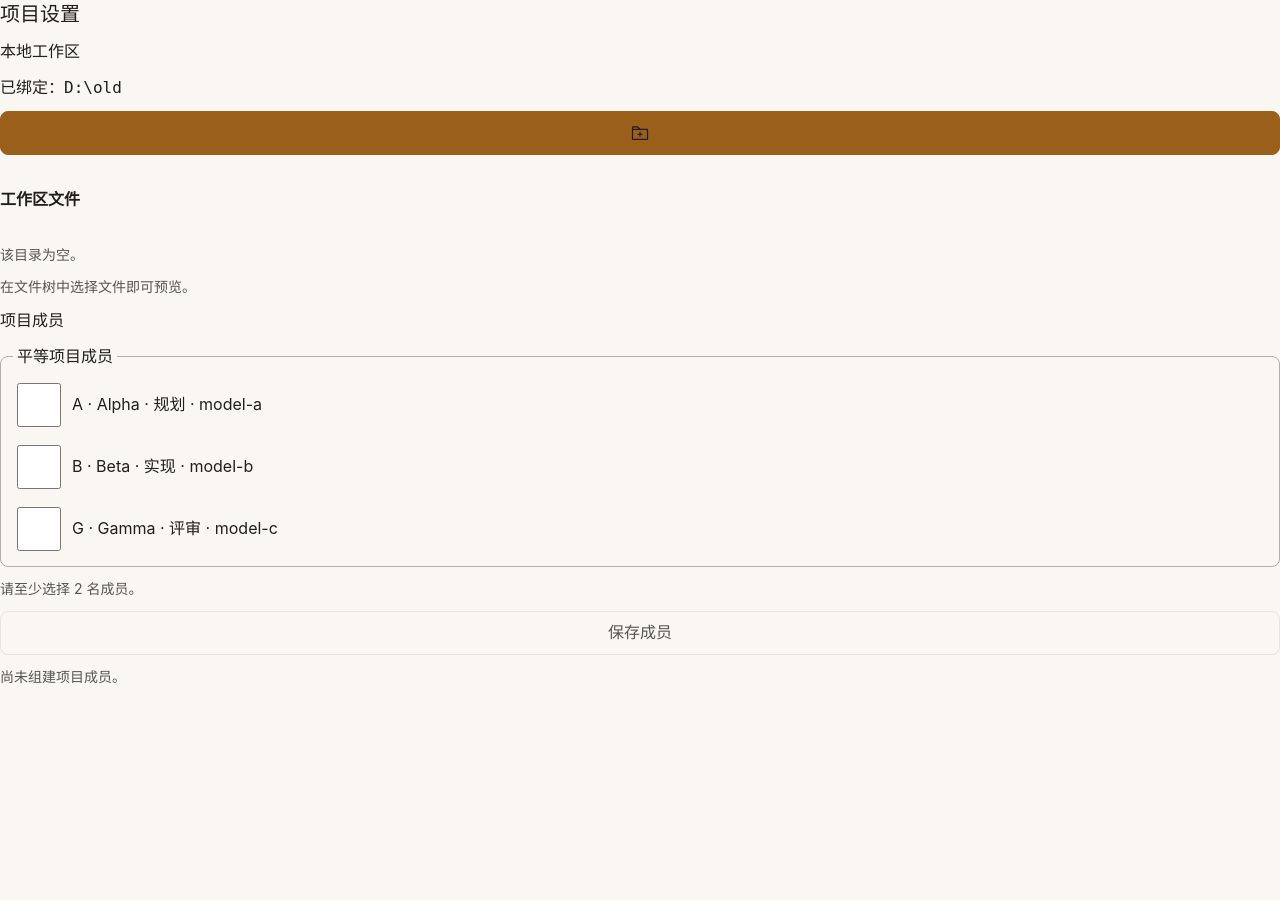
workspace and equal-member setup › binds, confirms rebind, announces success and focuses the path summary
Click the button named "保存工作区" at coordinates (640, 133), box [0, 111, 1279, 155]
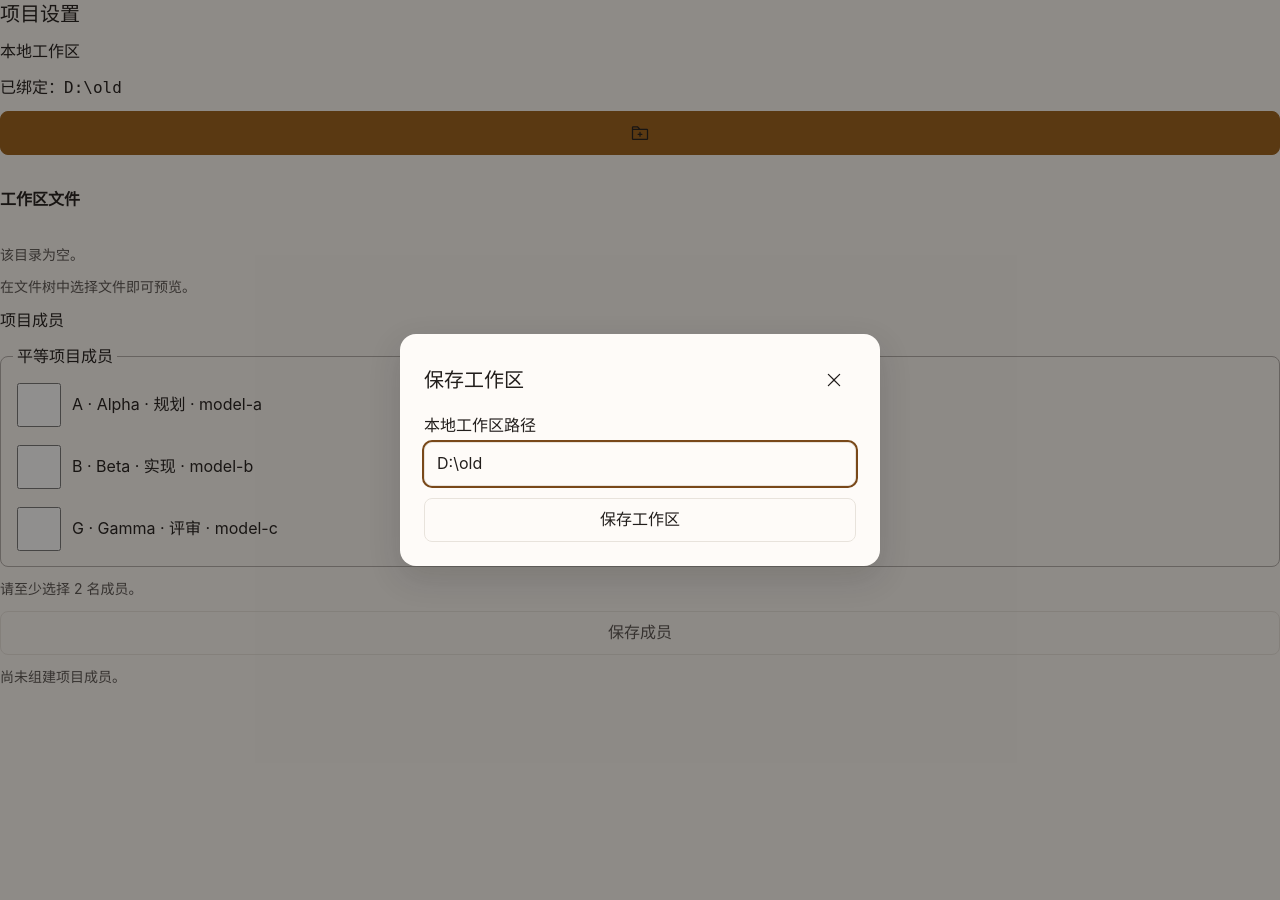
Replace the text in the field labelled "本地工作区路径" with "D:\\new" at coordinates (640, 464), box [424, 442, 856, 486]
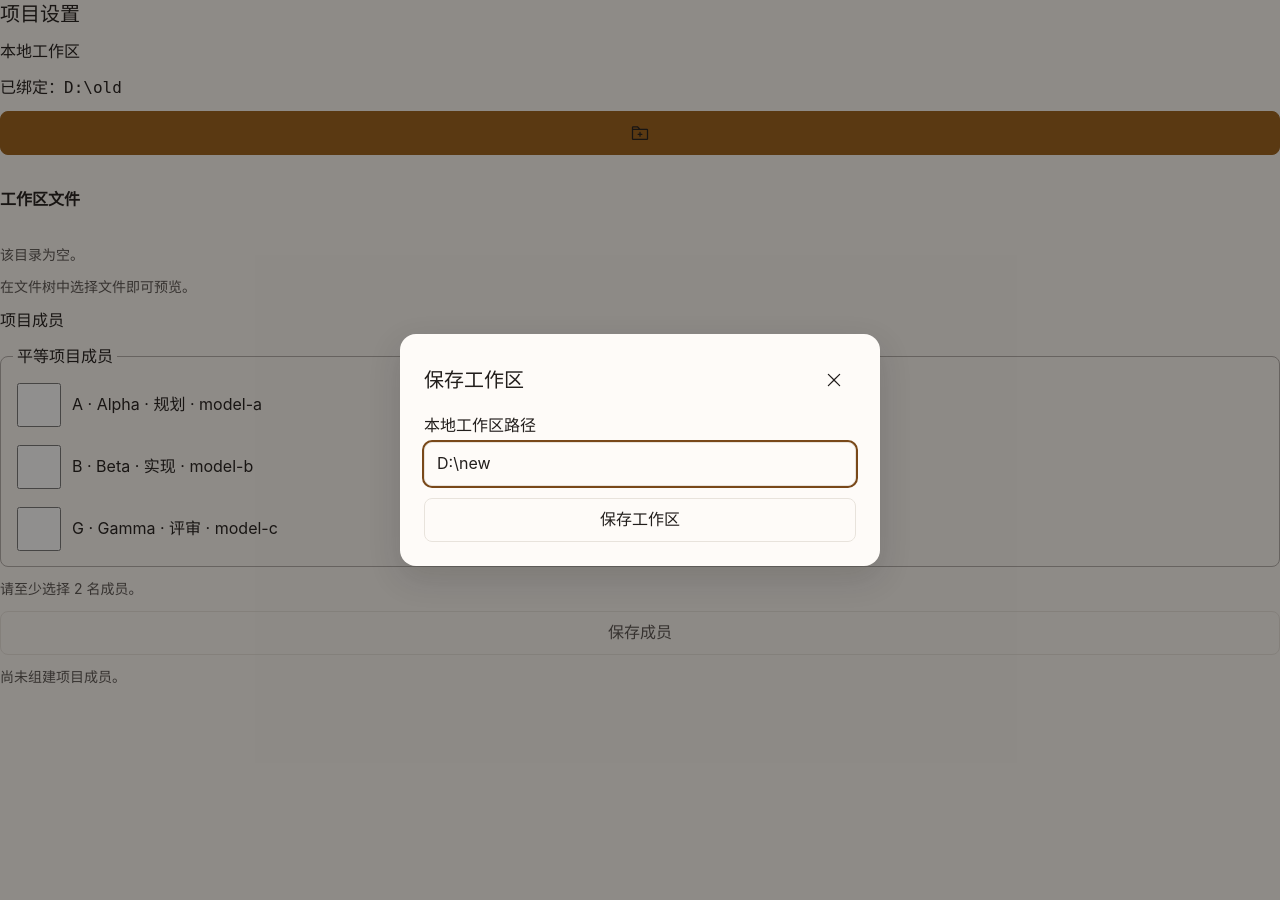
Click the button "保存工作区" at coordinates (640, 520), box [424, 498, 856, 542]
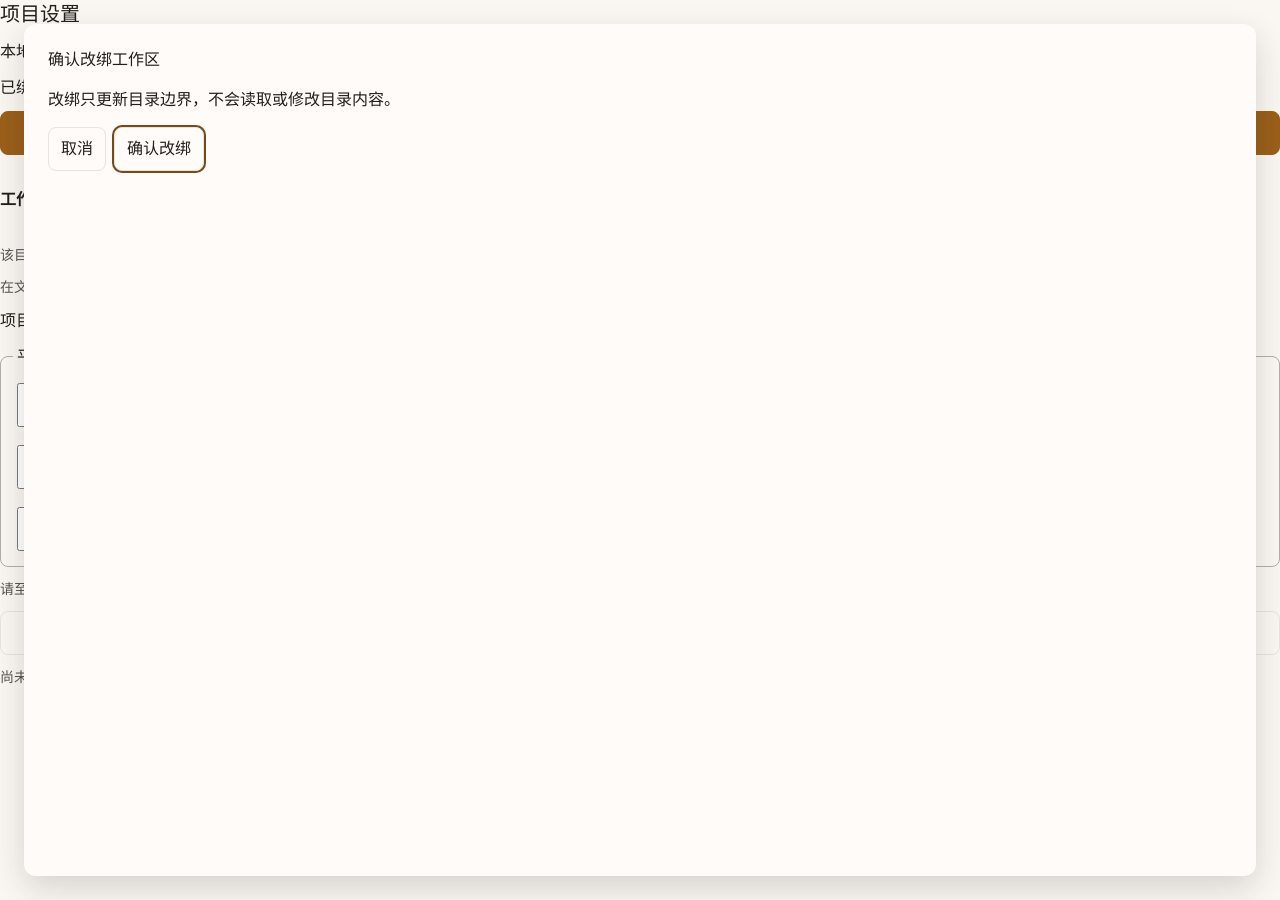
Now the element "项目设置" has attribute inert
Click the button "确认改绑" at coordinates (159, 149), box [114, 127, 204, 171]
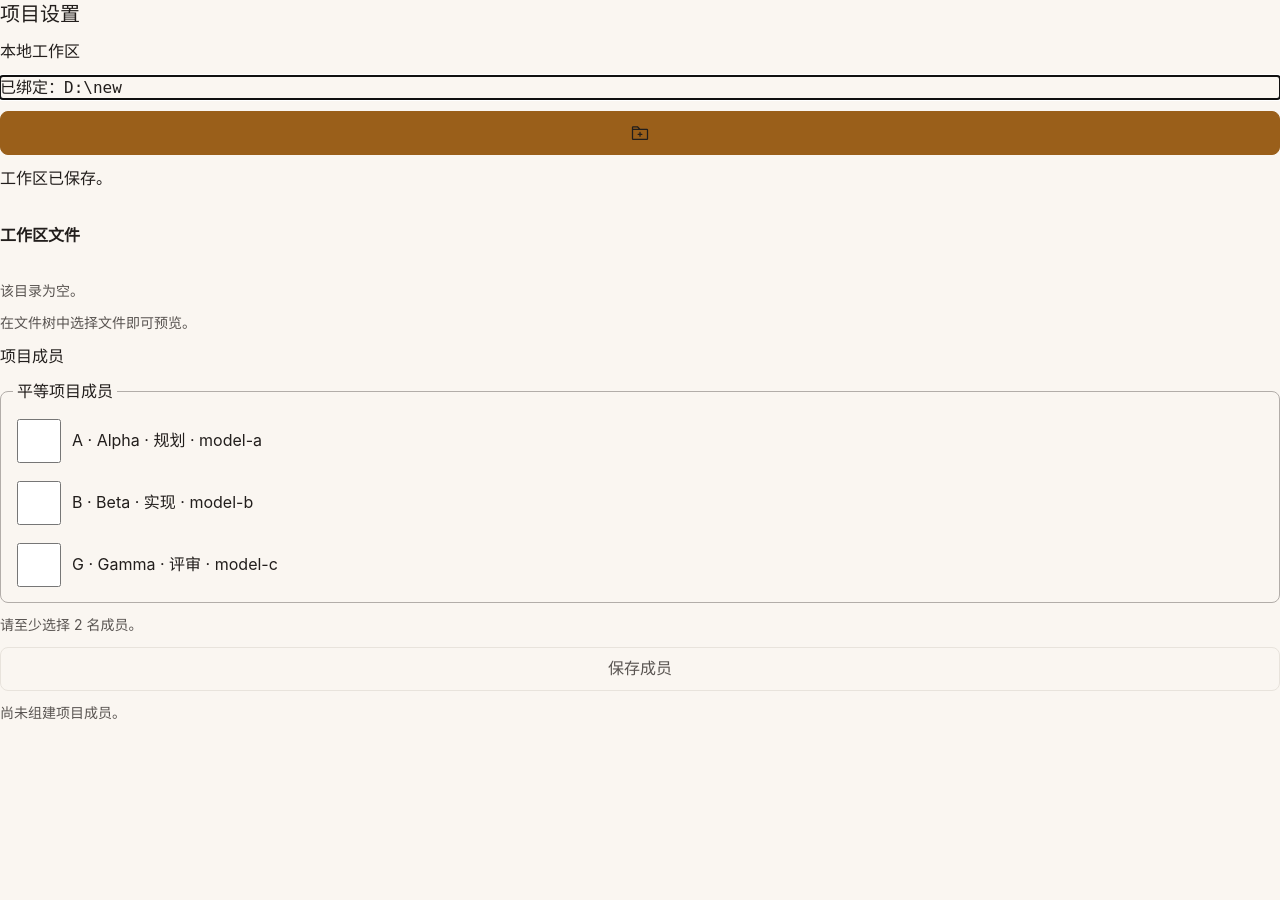
Now the message named "工作区绑定状态" shows "D:\\new", box [64, 78, 122, 96]
Now the message named "保存结果" reads "工作区已保存。", box [0, 168, 112, 188]
